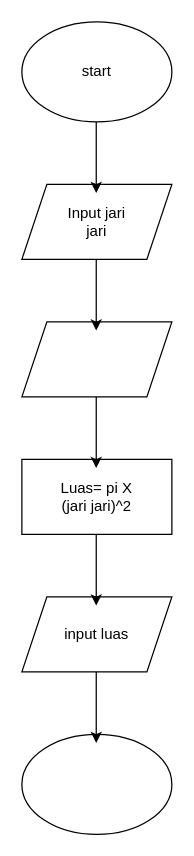
This 194x856 diagram has some shape labels left out. The shapes that lost their labels are listed below. From the top down, each one's centre as x and y in pixels, then its label:
the point at 96,359: Input pi
the point at 96,783: selesai
